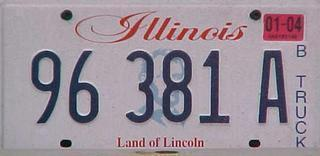placa de veiculo: (17, 5, 315, 149)
